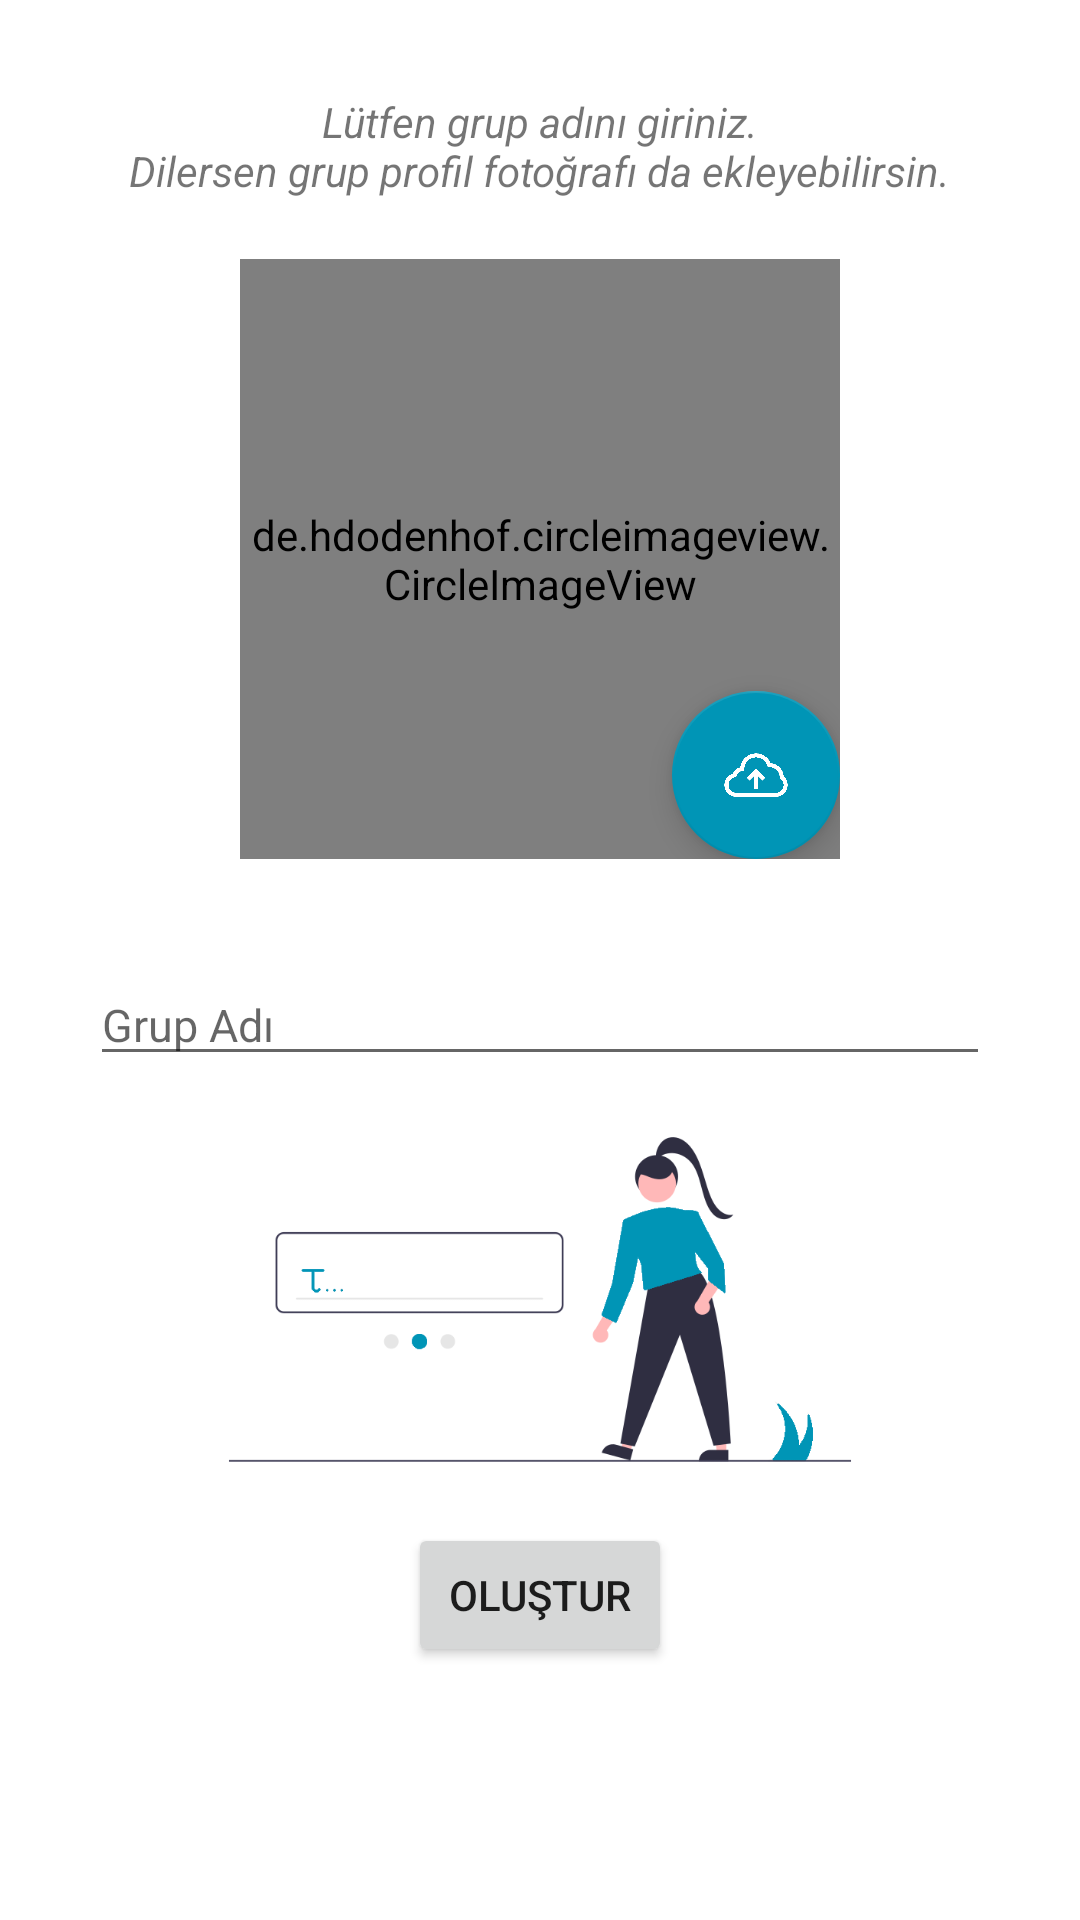

Where to tap for icons on this 1080 x 1920 app screen, as (x,y):
upload: (756,775)
